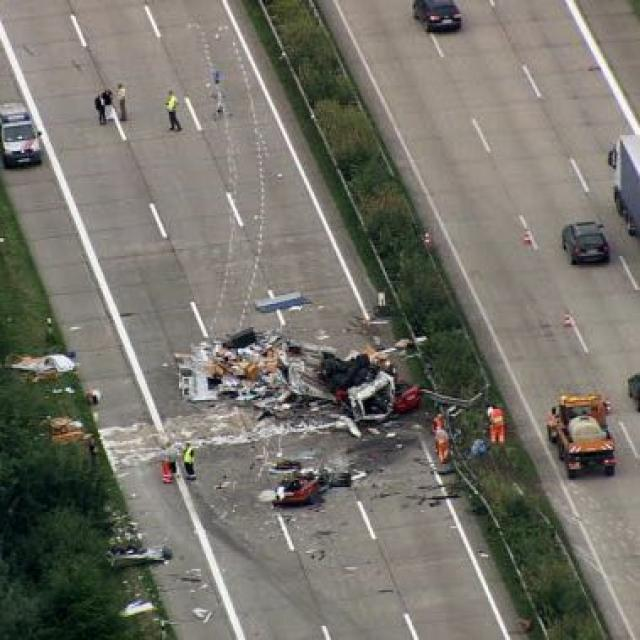traffic_incident: (170, 327, 426, 430), (265, 459, 321, 512)
